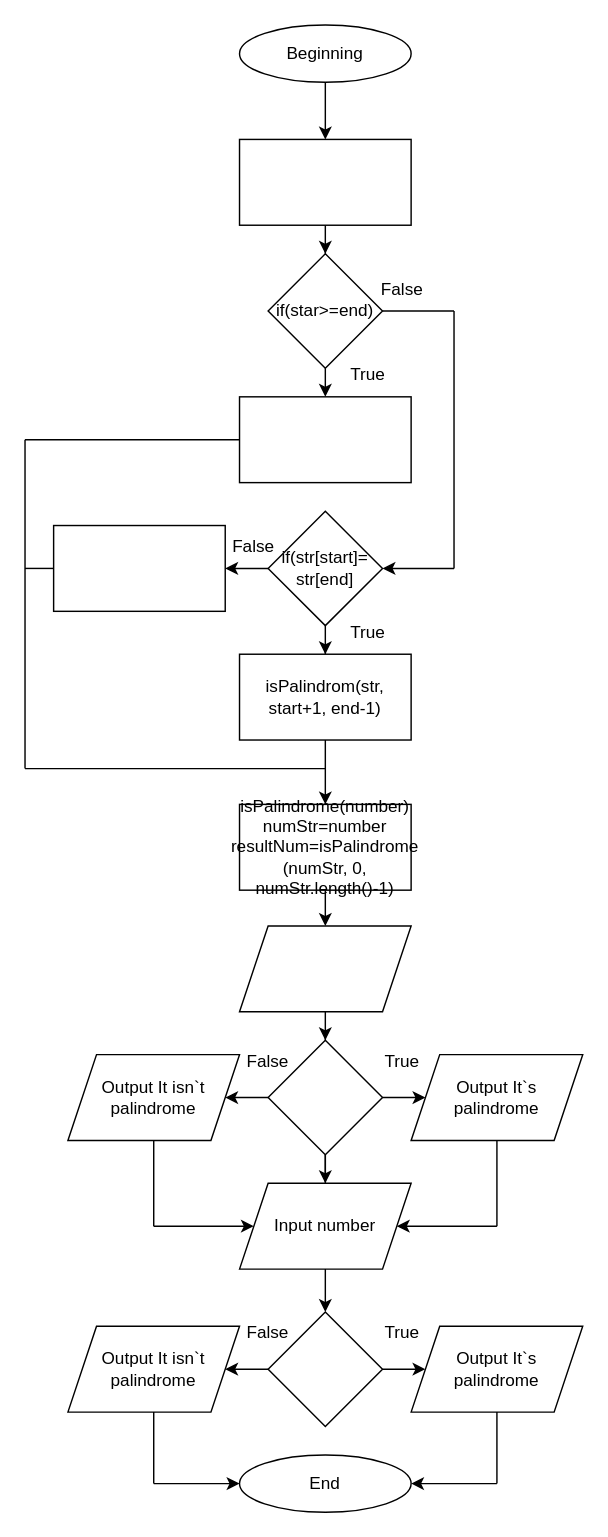
Some shapes in this 608 by 1537 pixel diagram are drawn without their labels. Here are the shapes that lost their labels. From the top down, the box of each, then its label:
(238, 138, 411, 225): isPalindrome(str, start, end)
(238, 395, 411, 483): result=true
(52, 524, 225, 611): result=false
(238, 924, 411, 1012): Input word
(267, 1039, 383, 1155): if(result=true)
(267, 1311, 383, 1426): if(resultNum=true)
